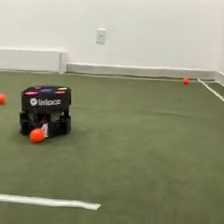ball: (27, 126, 46, 144), (181, 76, 191, 86), (1, 92, 7, 105)
goal: (1, 46, 69, 76)
robot: (17, 84, 74, 139)
